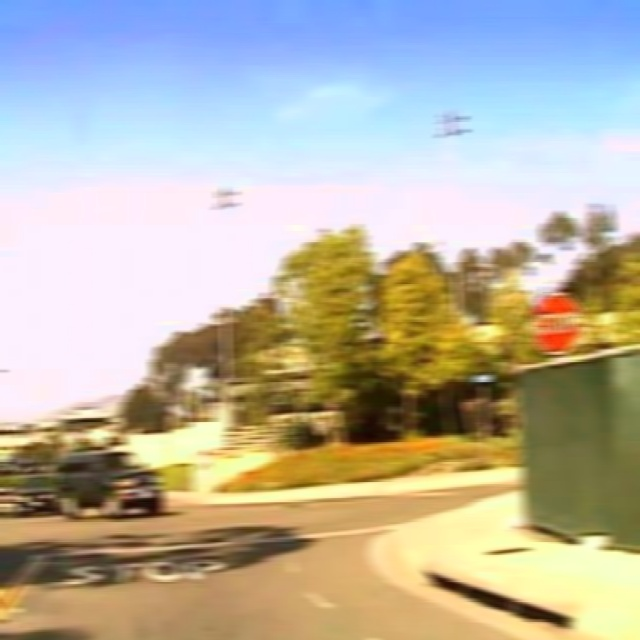stop: (534, 291, 580, 352)
